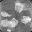people: (15, 2, 24, 14), (21, 15, 31, 24), (1, 19, 11, 27), (10, 18, 18, 27), (1, 11, 10, 18)
